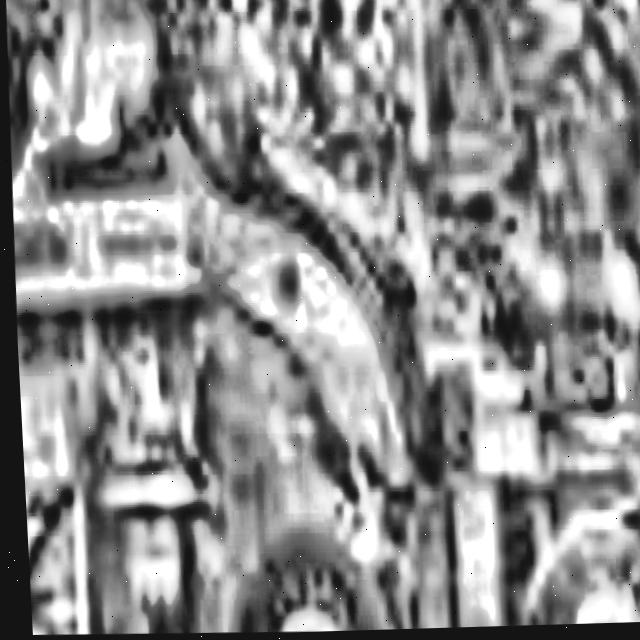dump_truck: (6, 142, 224, 637)
